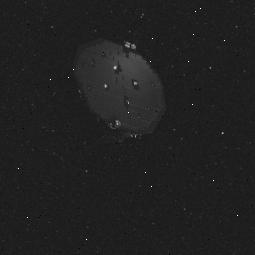lisa_pathfinder: (62, 33, 181, 157)
